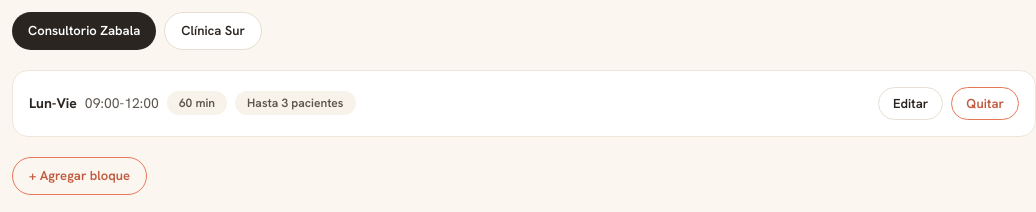
Test case: ScheduleEditor › switches the visible blocks when a different location is selected
Click the button "Clínica Sur" at {"x": 213, "y": 31}, box 164,12 -> 262,50
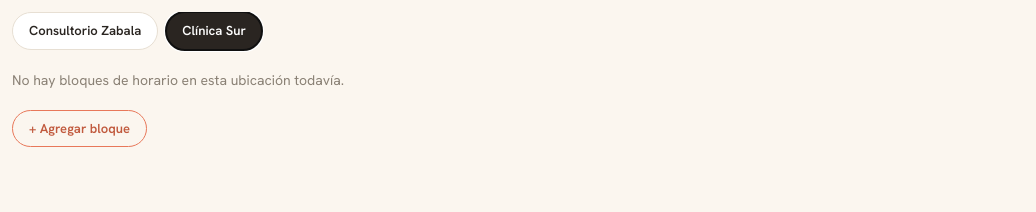
Expected: the text "09:00-12:00" is gone
Expected: the text "No hay bloques de horario en esta ubicación todavía." is shown, 12,70 -> 344,88
